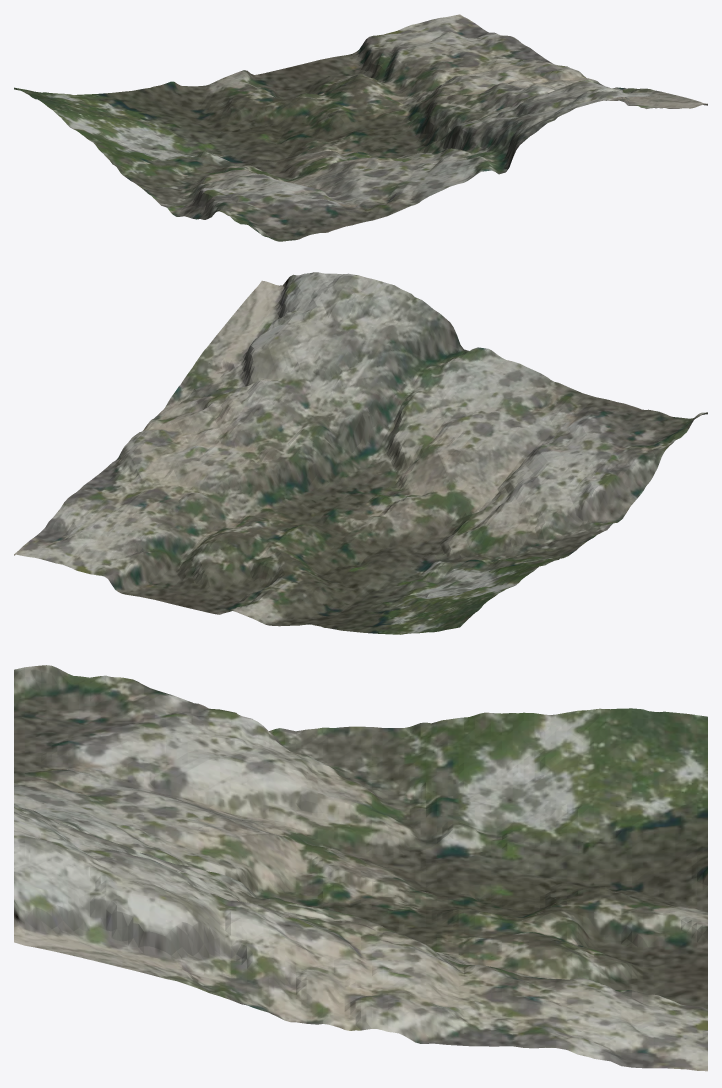
3 views of the same model, one above another, from view 1: azimuth 30°, elevation 25°; view 2: azimuth 150°, elevation 25°; view 3: azimuth 270°, elevation 25° (orthographic). The views are drawn at different scales.
Bounding box in the file's own units: 250 × 72.89 × 241.
Materials: 1 (1 with a texture image).
